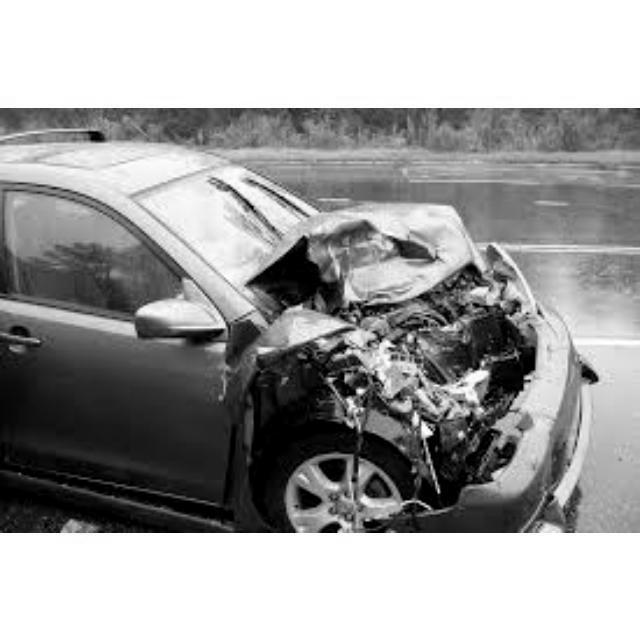bonnet-dent: (271, 202, 528, 349)
fender-dent: (246, 323, 505, 501)
